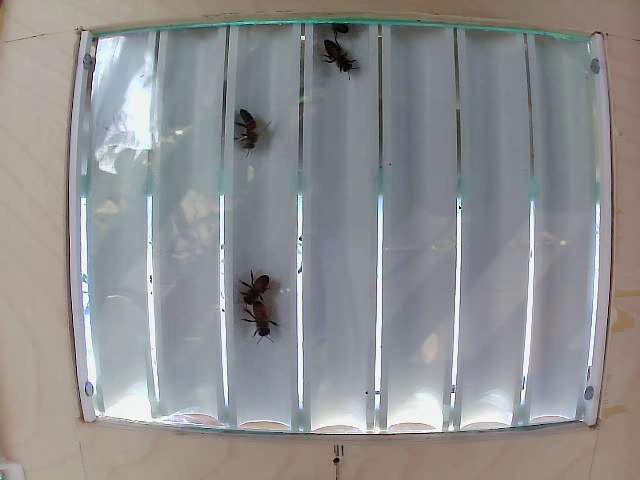bee: (244, 304, 293, 352), (232, 275, 282, 316), (232, 98, 260, 167), (320, 41, 362, 83)
